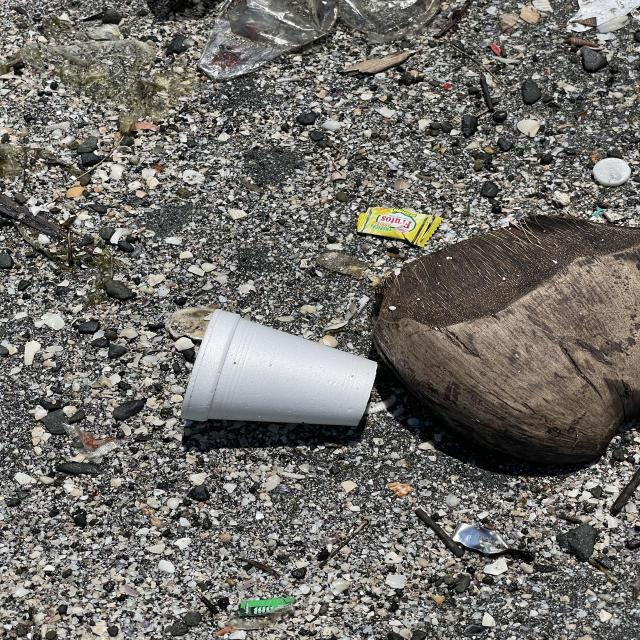plastic_waste: (199, 2, 340, 82), (354, 205, 442, 250), (563, 0, 637, 33), (454, 525, 513, 557), (594, 158, 630, 187)
styrofoam_waste: (182, 312, 381, 430)
wood_waste: (375, 217, 640, 468)
